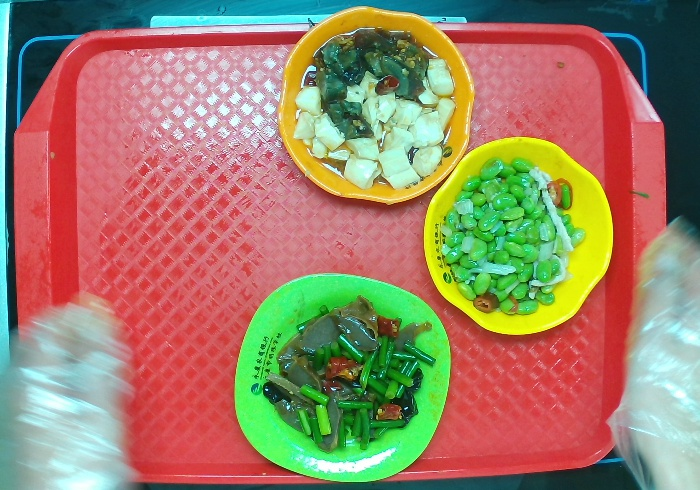YKMZ-Huang_Se_Ao_Bian_Wan: (421, 134, 615, 336)
YKMZ-Ju_Se_Ao_Bian_Wan: (274, 5, 477, 209)
YKMZ-Lv_Se_Fang_Die: (232, 271, 453, 484)
